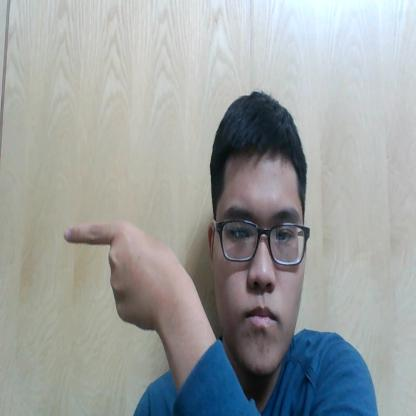right: (62, 209, 191, 344)
